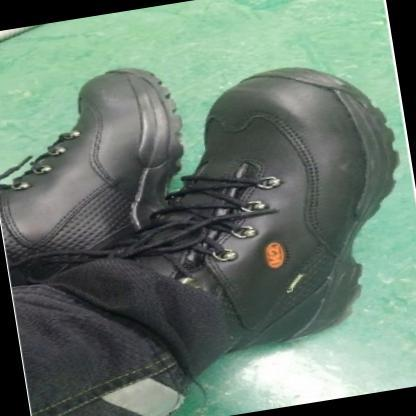safety-shoe: (56, 59, 415, 396)
